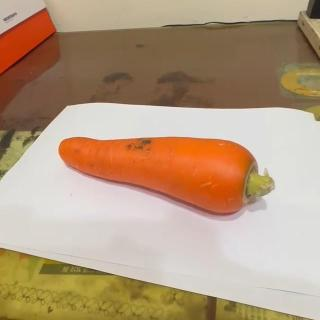carrot: (55, 133, 278, 214)
